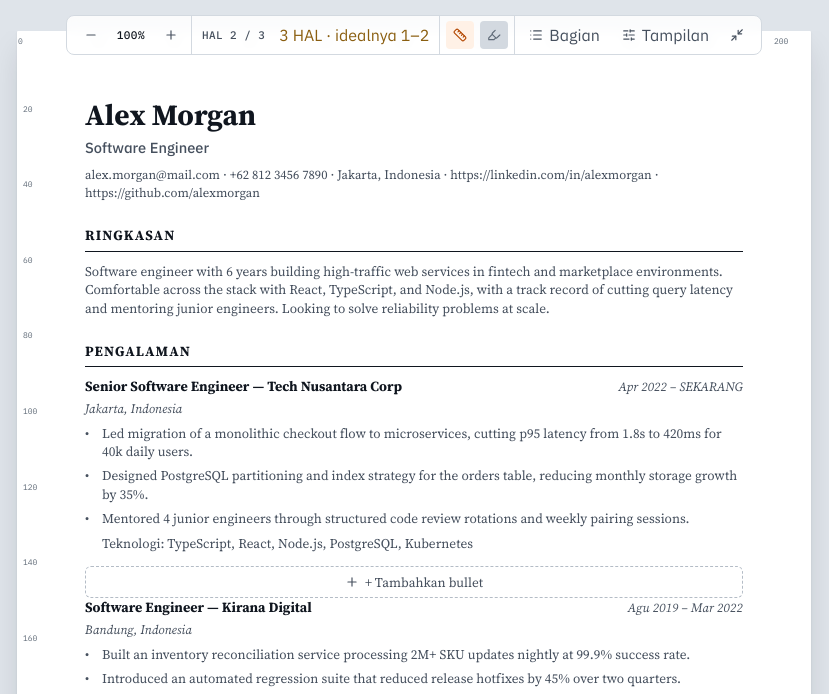
Test case: kepala entri editable di kertas (C4.1) › undo membatalkan satu commit kepala entri
Click the button "Tech Nusantara Corp" at (334, 387), box [267, 377, 402, 397]
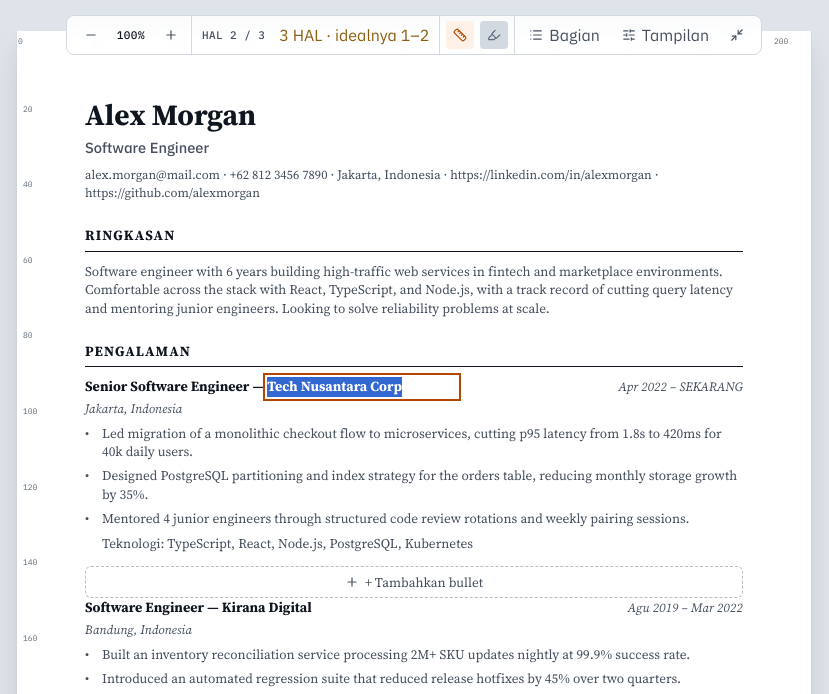
Expected: the field with class "canvas-editor" is shown
Replace the text in the field with class "canvas-editor" with "Kirana Digital" at (362, 387), box [267, 377, 457, 397]
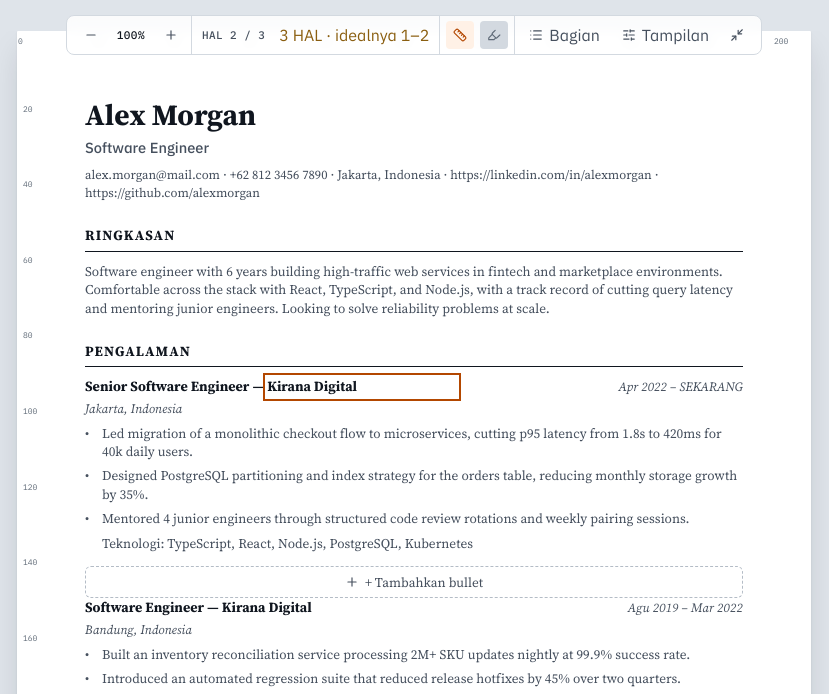
Press Enter
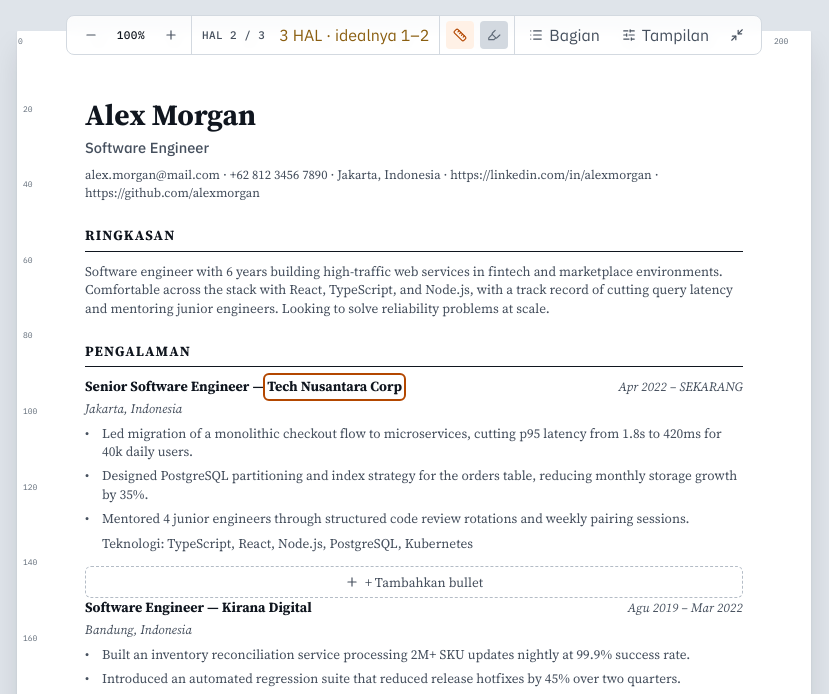
Expected: the field with class "canvas-editor" is gone
Expected: the button "Tech Nusantara Corp" is shown, [267, 377, 402, 397]
